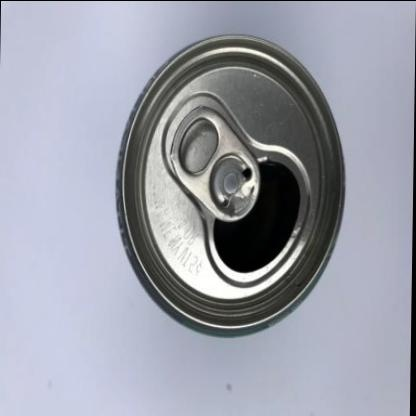trash: (121, 36, 343, 329)
